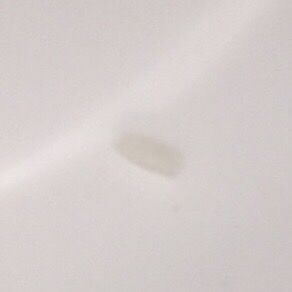Gao Tam: (113, 128, 182, 177)
